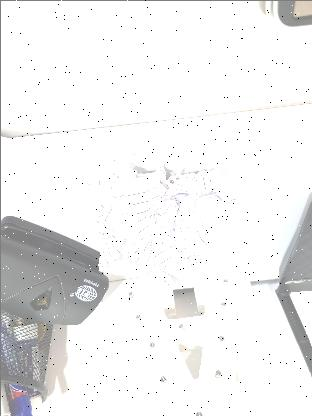Others: (96, 162, 230, 289)
